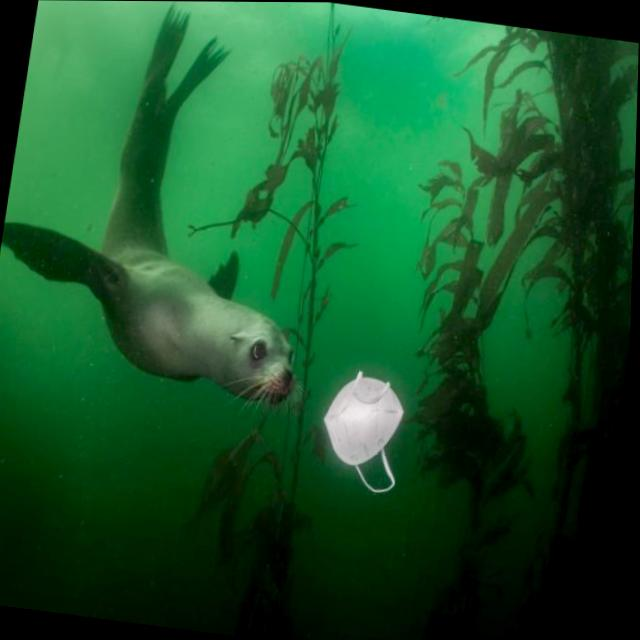Mask: (316, 363, 417, 495)
